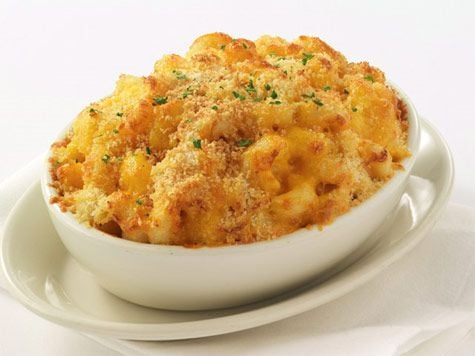sushi: (39, 20, 456, 314)
